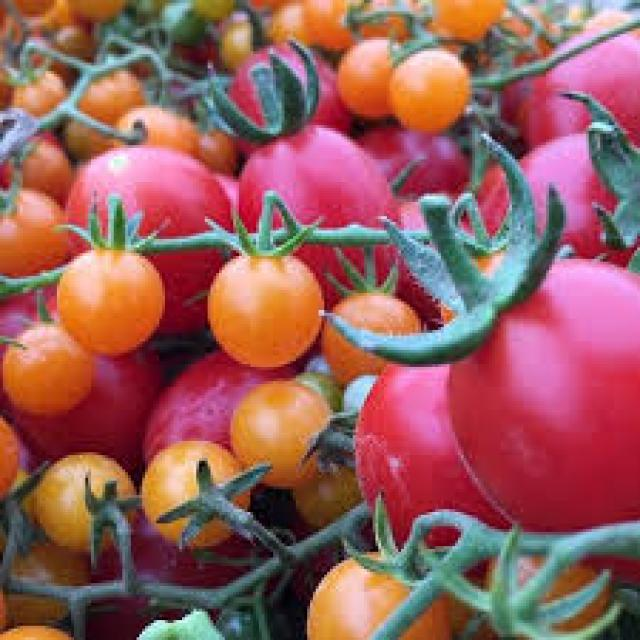organic waste: (0, 0, 637, 637), (444, 248, 637, 566), (205, 40, 401, 307), (350, 347, 520, 555), (57, 139, 230, 336), (80, 506, 278, 637), (0, 275, 156, 432), (464, 125, 637, 265), (140, 341, 302, 458), (51, 196, 171, 353), (202, 213, 324, 364), (313, 242, 424, 384), (304, 546, 470, 637), (136, 435, 264, 549), (461, 560, 626, 638), (518, 32, 637, 140), (392, 193, 483, 324), (233, 46, 347, 140), (233, 376, 336, 480), (31, 449, 131, 552), (0, 515, 88, 620), (0, 316, 88, 412), (284, 430, 370, 526), (353, 120, 469, 190), (389, 37, 464, 125), (336, 31, 406, 111), (469, 37, 532, 117), (0, 188, 60, 267), (108, 102, 194, 154), (20, 14, 91, 74), (71, 57, 139, 117), (296, 342, 350, 416), (3, 131, 68, 190), (0, 54, 60, 114), (498, 0, 557, 57), (296, 0, 358, 46), (358, 0, 429, 40), (563, 3, 637, 37), (330, 373, 387, 415), (429, 0, 503, 31), (191, 120, 233, 170), (0, 614, 80, 638), (165, 6, 205, 48), (57, 0, 128, 23), (264, 0, 304, 40), (216, 14, 250, 60), (0, 412, 14, 512), (0, 0, 63, 17), (185, 0, 236, 20), (244, 0, 298, 11)
